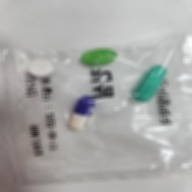러키펜정: (28, 59, 54, 77)
씨엠지세파클러캡슐: (68, 96, 96, 131)
에르도캡슐: (133, 66, 167, 103)
휴티렌정: (80, 49, 118, 66)
